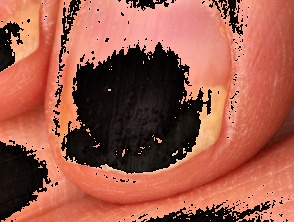Nail_psoriasis: (44, 0, 277, 188), (0, 0, 53, 75)
